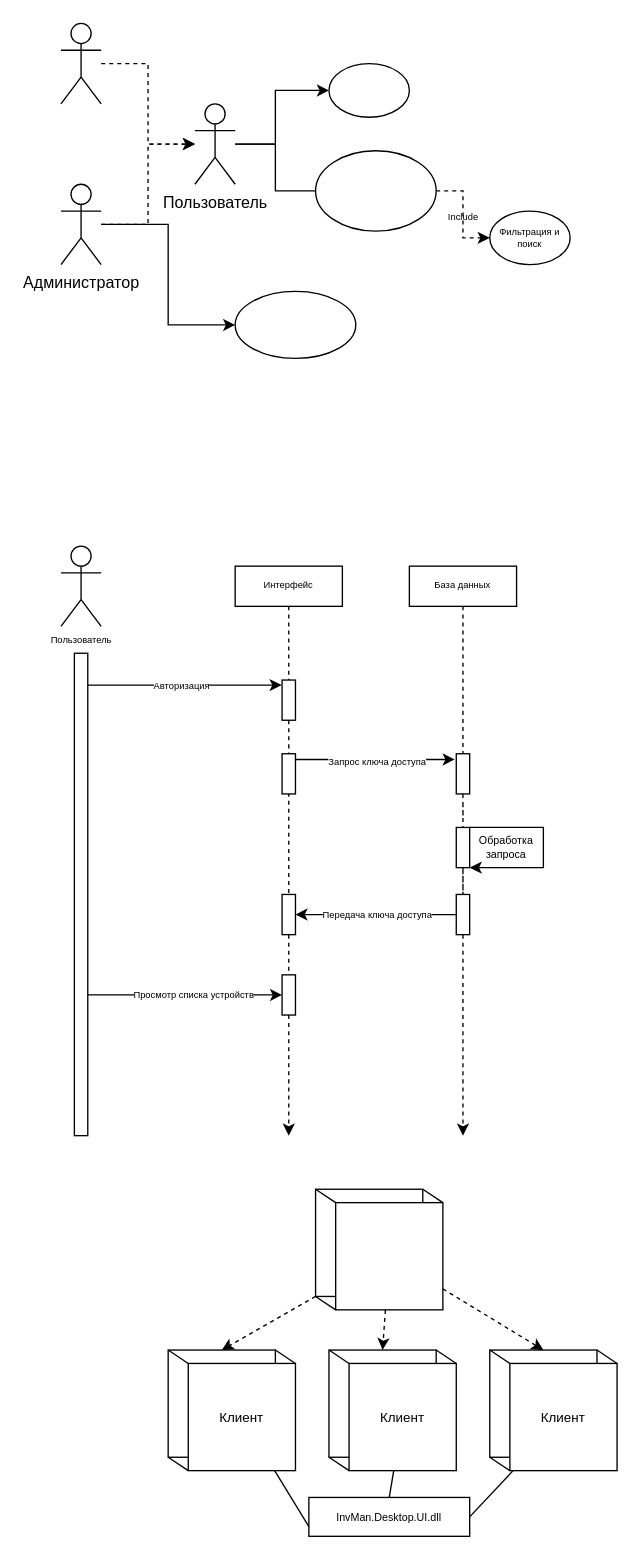
Image size: 642x1560. Some labels were removed from this diagram. The centre of each missing label's shape, as x and y in pixels:
Актуализация информации об устройствах: point (368, 89)
Просмотр списка компьютерной техники: point (375, 190)
Редактирование пользователей в системе: point (295, 324)
Сервер: point (388, 1255)
Техник: point (80, 63)
